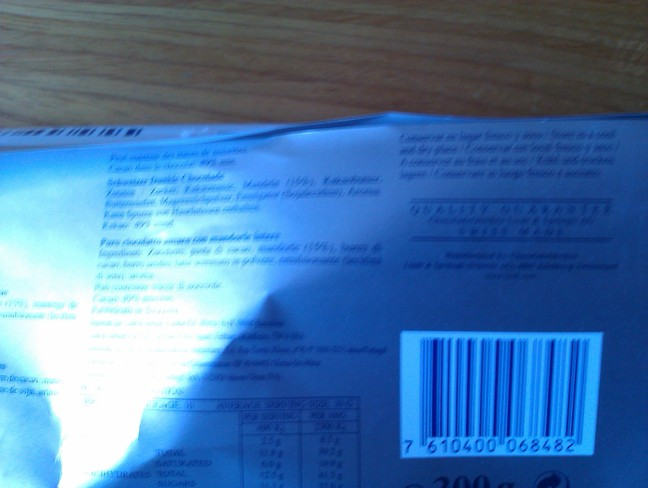detection: (400, 332, 602, 458)
